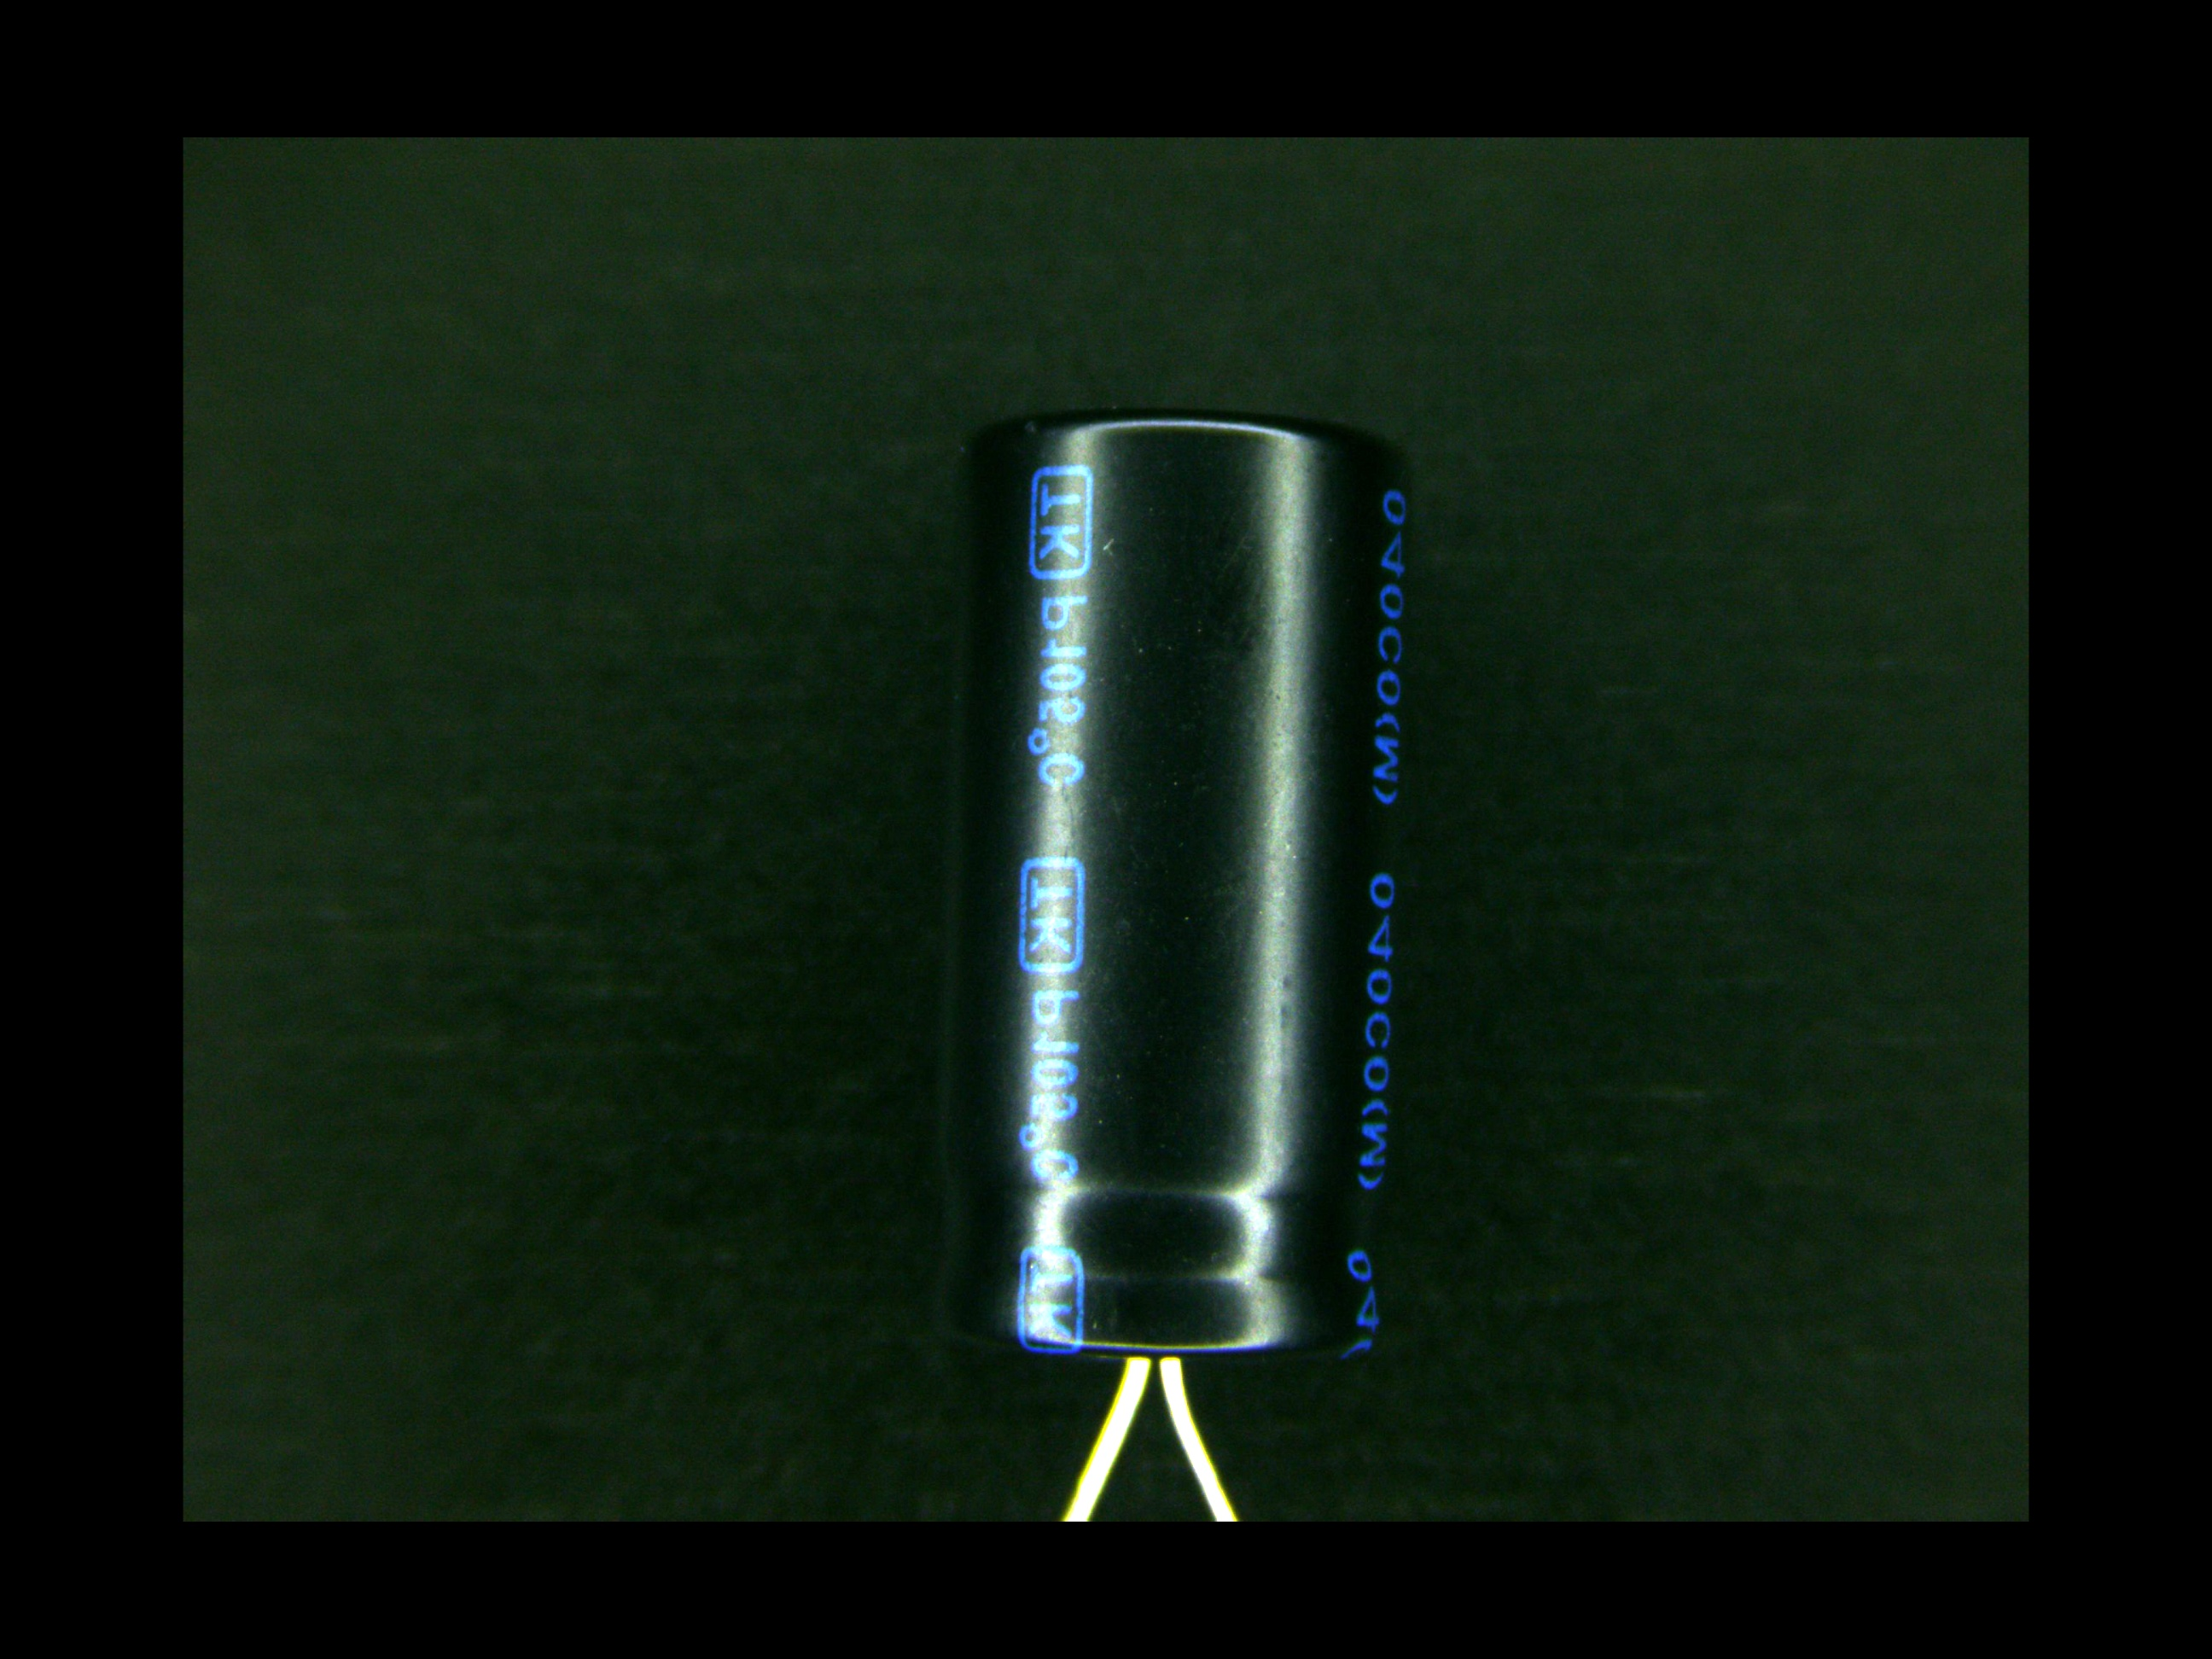c2: (934, 410, 1430, 1445)
